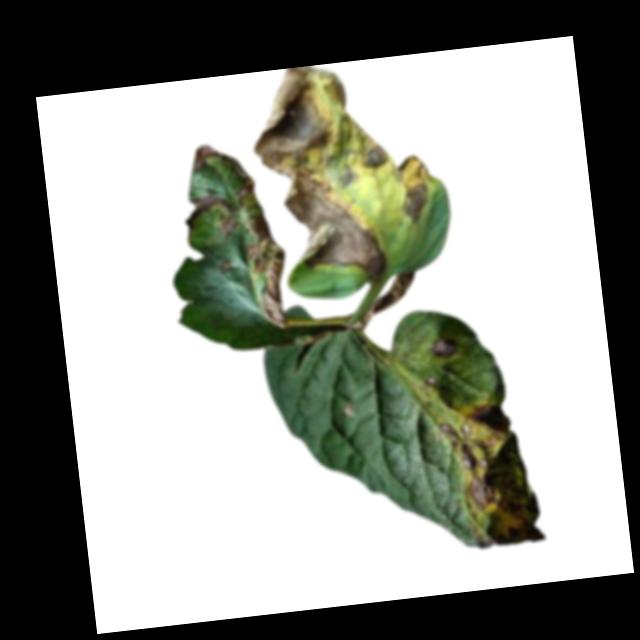Early_blight: (246, 58, 404, 292), (434, 393, 545, 553), (244, 207, 289, 326), (345, 270, 428, 329), (394, 152, 437, 228), (226, 152, 254, 206), (185, 193, 226, 221), (189, 144, 222, 171), (430, 334, 462, 361), (218, 215, 240, 240)
